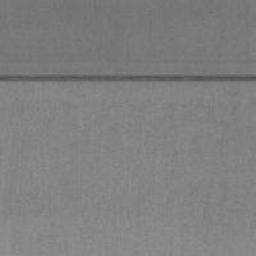Welding line: (0, 75, 256, 82)
